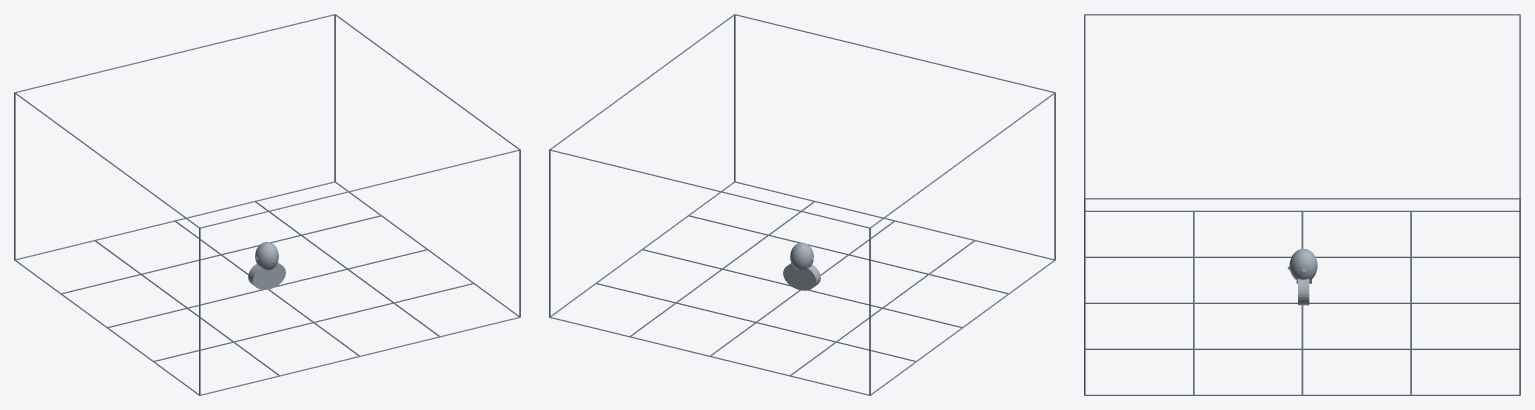
Rendered from room_temp.glb.
3 renders of one model, left to right at view 1: azimuth 30°, elevation 25°; view 2: azimuth 150°, elevation 25°; view 3: azimuth 270°, elevation 25°, orthographic. The views are drawn at different scales.
Parts seen in each view (by area): view 1: geometry_0, geometry_0ab5cd08bbed9; view 2: geometry_0, geometry_0ab5cd08bbed9; view 3: geometry_0, geometry_0ab5cd08bbed9.
Boxes of the visible parts, x1,y1,x2,y2 form: geometry_0: (14, 14, 520, 395); geometry_0ab5cd08bbed9: (248, 242, 285, 289); geometry_0: (549, 14, 1055, 395); geometry_0ab5cd08bbed9: (783, 242, 820, 290); geometry_0: (1084, 14, 1520, 395); geometry_0ab5cd08bbed9: (1287, 249, 1317, 305).
Size of the model in its own units: 10 by 5 by 10.
